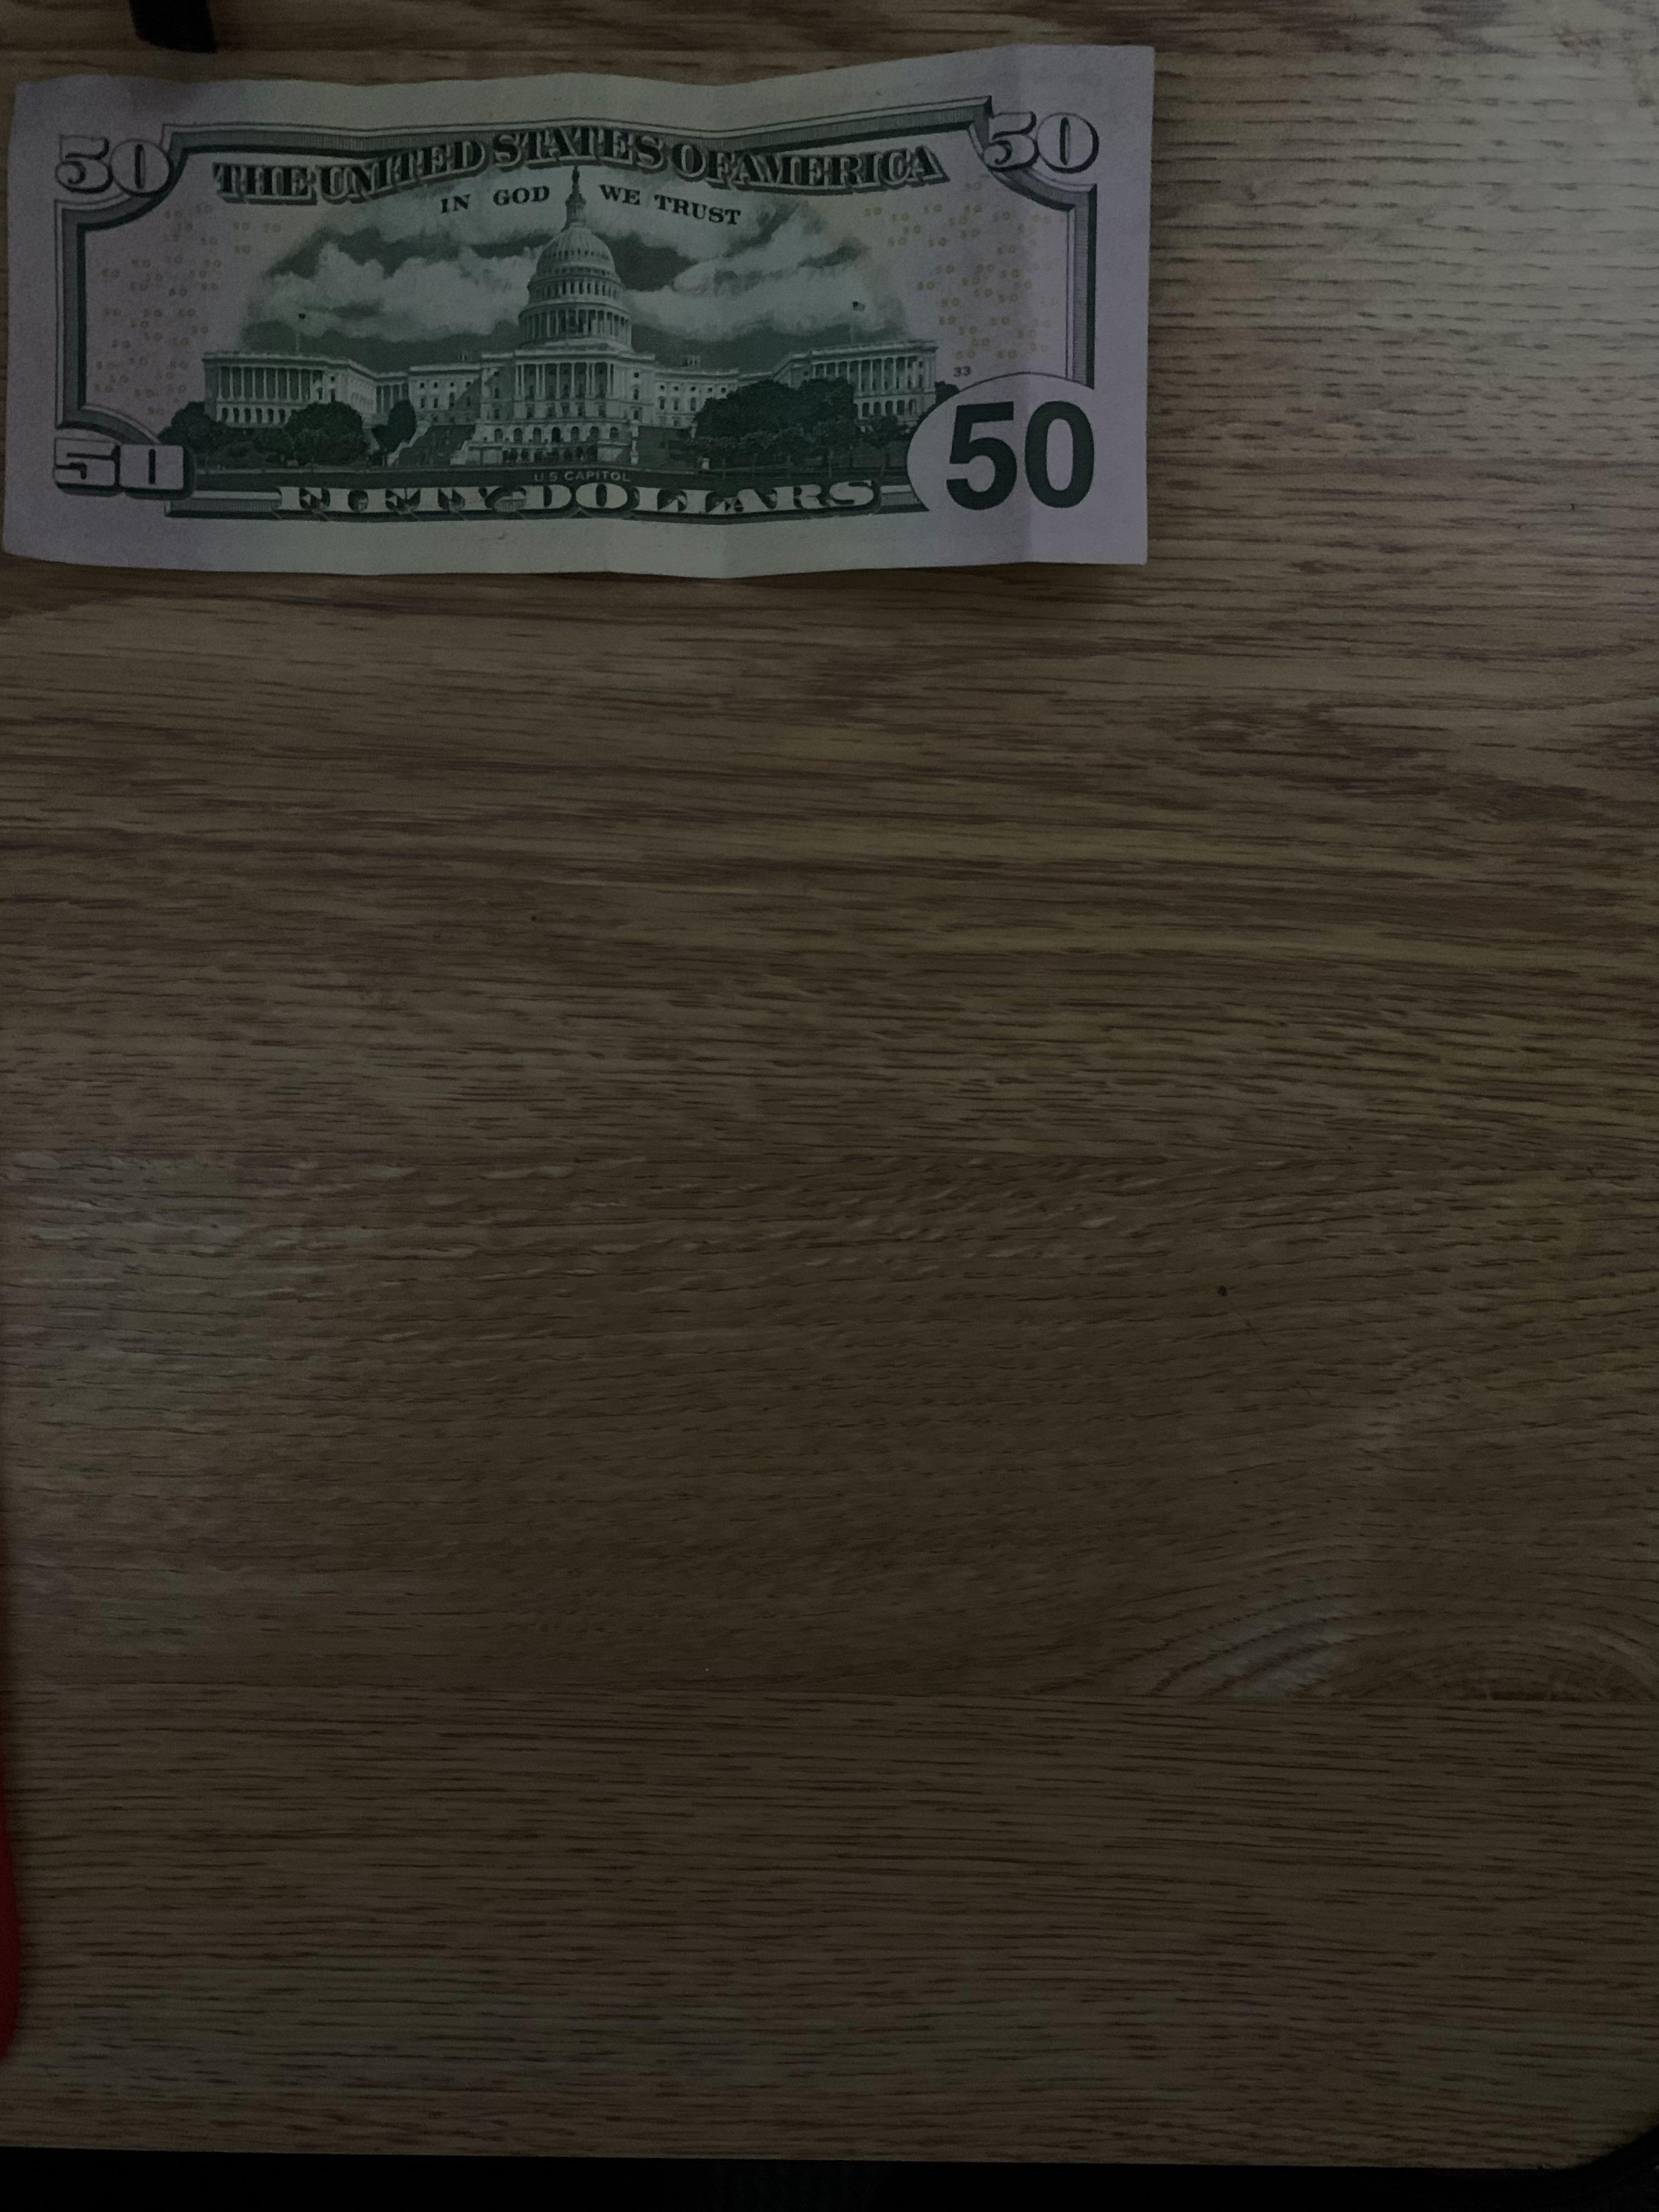FiftyBill: (2, 68, 1155, 578)
